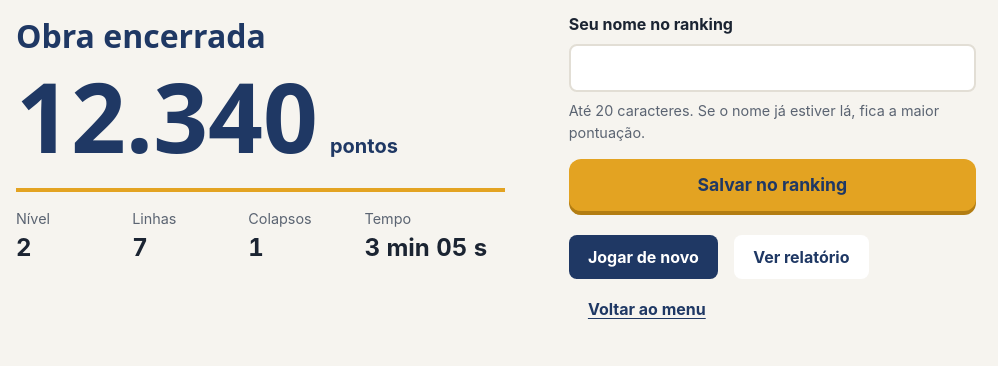
FimDePartida › sem a rota do ranking no backend, diz que ele ainda não existe
The width and height of the screenshot is (998, 366).
Step 1. Type "Ana" into the field labelled "Seu nome no ranking" → (772, 68), box [569, 44, 976, 92]
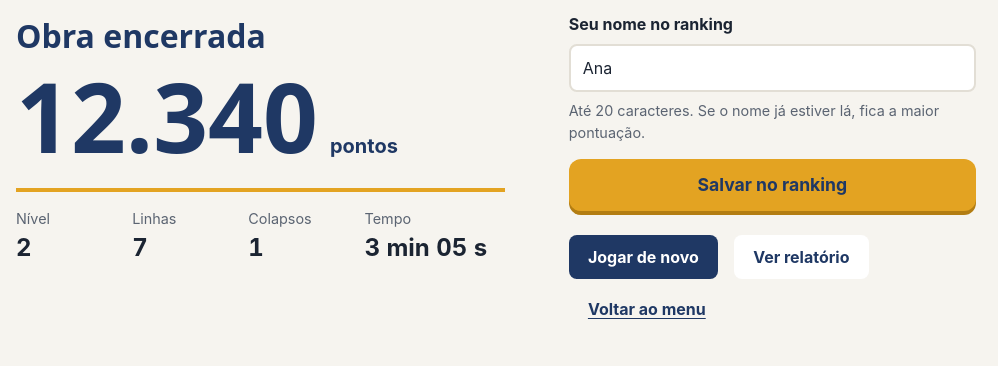
Step 2. Click the button "Salvar no ranking" → (772, 185), box [569, 159, 976, 211]
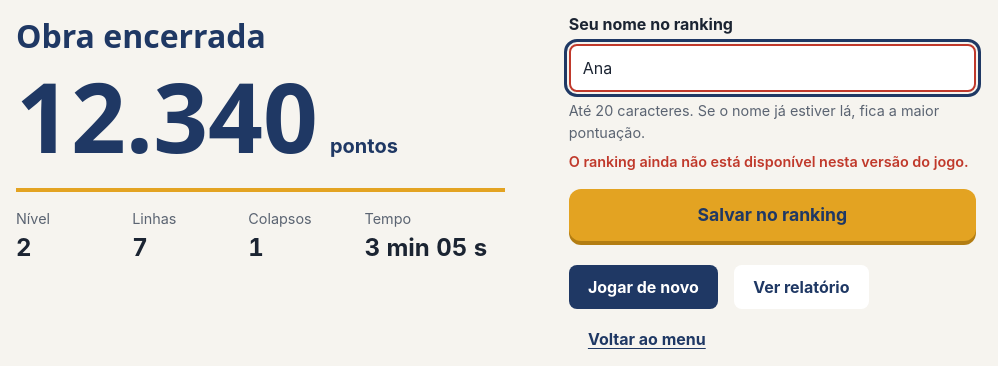
Expected: the message shows "O ranking ainda não está disponível", [569, 153, 969, 170]
